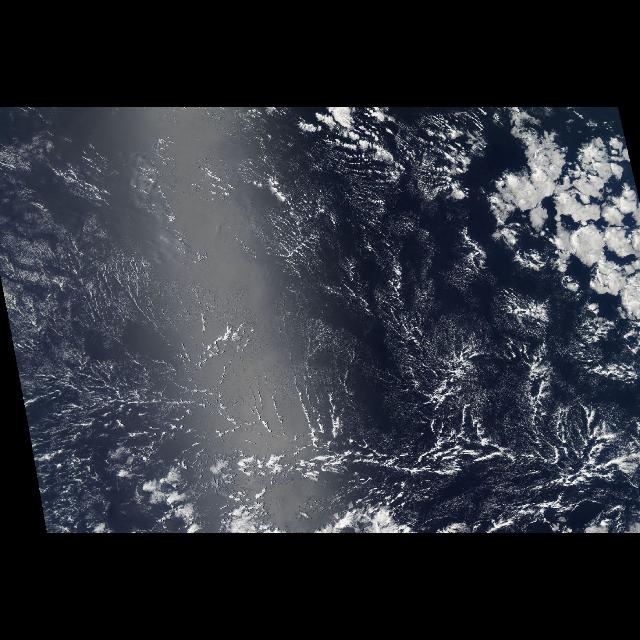Fish: (155, 406, 639, 502)
Flower: (466, 121, 640, 342)
Sugar: (0, 126, 214, 400)
